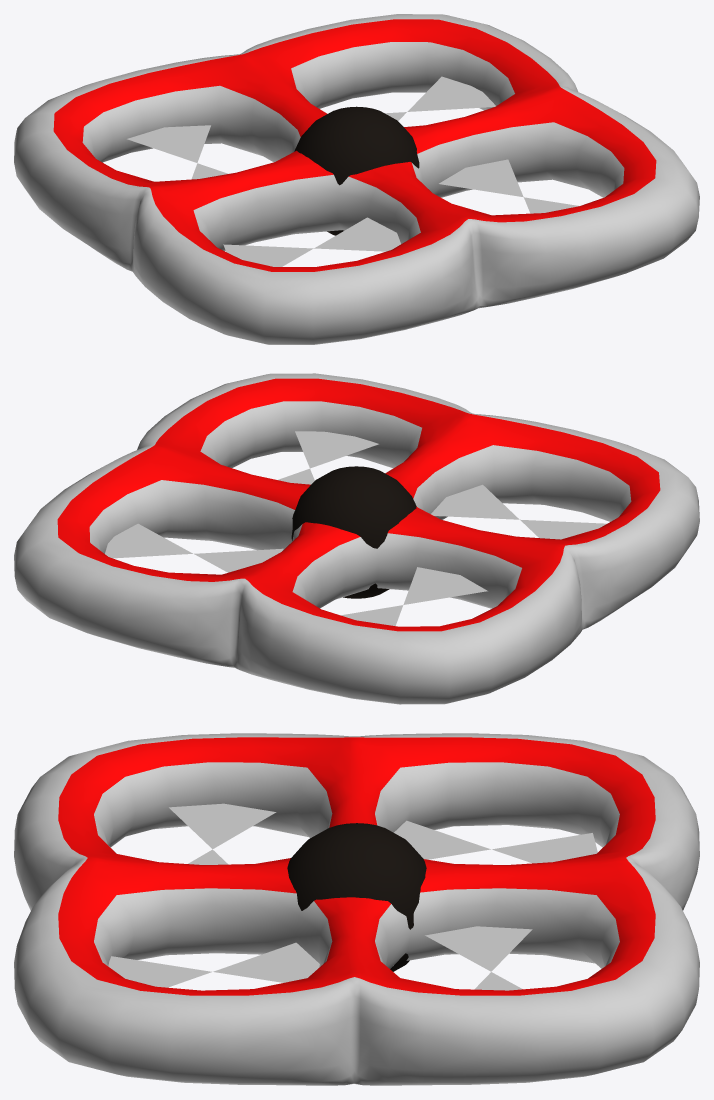
Rendered from drone.obj.
3 views of the same model, one above another, from view 1: azimuth 30°, elevation 25°; view 2: azimuth 150°, elevation 25°; view 3: azimuth 270°, elevation 25° (orthographic). The views are drawn at different scales.
Bounding box in the file's own units: 1.98 × 0.4541 × 1.96.
